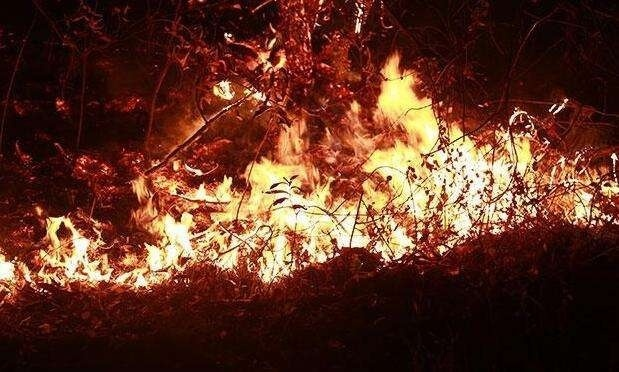fire: (18, 32, 570, 300)
